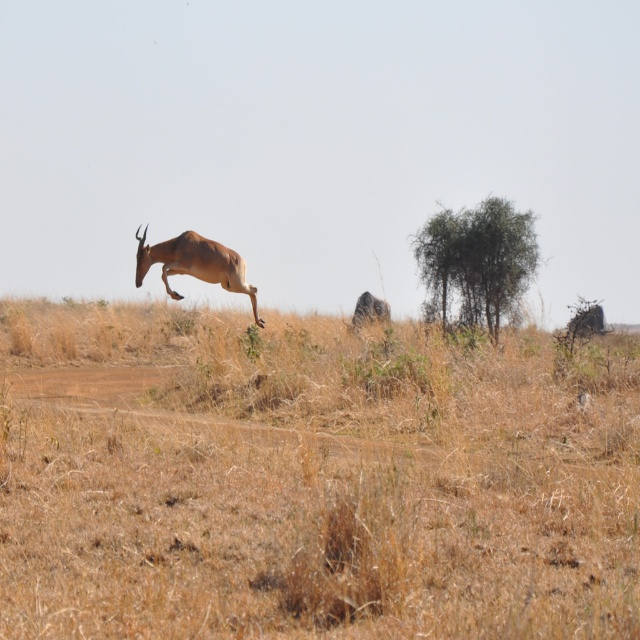Deer: (136, 222, 268, 331)
